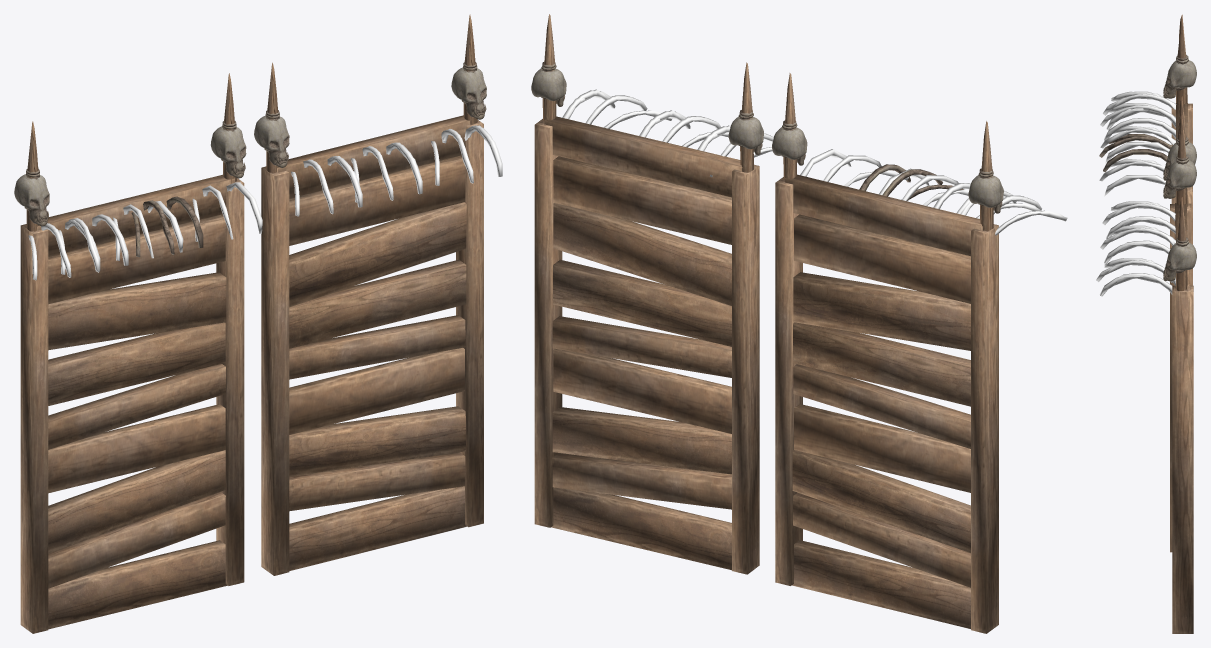
Rendered from porton.fbx.
3 views of the same model, side by side, from view 1: azimuth 30°, elevation 25°; view 2: azimuth 150°, elevation 25°; view 3: azimuth 270°, elevation 25° (orthographic). The views are drawn at different scales.
Visible parts, largest first — view 1: Housing_Wall_1A3.001, Housing_Wall_1A3, Skull_On_Post_1A6, Skull_On_Post_1A6.002, Skull_On_Post_1A6.003, Skull_On_Post_1A6.001, Meat_Bones_1A1.002, Meat_Bones_1A1.001, Meat_Bones_1A1.005, Meat_Bones_1A1_001.002, Meat_Bones_1A1_001.001, Meat_Bones_1A1 (+2 smaller); view 2: Housing_Wall_1A3.001, Housing_Wall_1A3, Skull_On_Post_1A6, Skull_On_Post_1A6.002, Skull_On_Post_1A6.003, Skull_On_Post_1A6.001, Meat_Bones_1A1_001.002, Meat_Bones_1A1.002, Meat_Bones_1A1.005, Meat_Bones_1A1, Meat_Bones_1A1.004, Meat_Bones_1A1_001.001; view 3: Housing_Wall_1A3.001, Skull_On_Post_1A6.003, Skull_On_Post_1A6.002, Skull_On_Post_1A6, Meat_Bones_1A1.001, Meat_Bones_1A1, Meat_Bones_1A1_001.001, Meat_Bones_1A1.002, Meat_Bones_1A1_001.002, Meat_Bones_1A1.005, Meat_Bones_1A1.003, Housing_Wall_1A3 (+5 smaller).
Boxes of the visible parts, x1,y1,x2,y2 form: Housing_Wall_1A3.001: (261,115,483,575); Housing_Wall_1A3: (20,174,244,633); Skull_On_Post_1A6: (14,121,49,231); Skull_On_Post_1A6.002: (254,62,289,172); Skull_On_Post_1A6.003: (451,14,486,124); Skull_On_Post_1A6.001: (210,73,246,183); Meat_Bones_1A1.002: (131,196,203,257); Meat_Bones_1A1.001: (58,214,128,274); Meat_Bones_1A1.005: (431,125,502,185); Meat_Bones_1A1_001.002: (192,182,262,241); Meat_Bones_1A1_001.001: (113,201,183,260); Meat_Bones_1A1: (28,220,100,280); Housing_Wall_1A3.001: (534,116,759,574); Housing_Wall_1A3: (775,174,998,633); Skull_On_Post_1A6: (968,121,1003,231); Skull_On_Post_1A6.002: (728,62,763,172); Skull_On_Post_1A6.003: (531,14,566,120); Skull_On_Post_1A6.001: (772,73,807,179); Meat_Bones_1A1_001.002: (800,149,908,186); Meat_Bones_1A1.002: (859,164,963,200); Meat_Bones_1A1.005: (562,90,671,128); Meat_Bones_1A1: (960,195,1067,235); Meat_Bones_1A1.004: (639,111,728,147); Meat_Bones_1A1_001.001: (879,168,968,205); Housing_Wall_1A3.001: (1170,203,1193,633); Skull_On_Post_1A6.003: (1163,197,1196,290); Skull_On_Post_1A6.002: (1163,115,1196,206); Skull_On_Post_1A6: (1163,14,1196,104); Meat_Bones_1A1.001: (1100,103,1175,140); Meat_Bones_1A1: (1103,91,1188,129); Meat_Bones_1A1_001.001: (1100,126,1175,163); Meat_Bones_1A1.002: (1099,134,1171,172); Meat_Bones_1A1_001.002: (1099,158,1165,196); Meat_Bones_1A1.005: (1096,258,1175,296); Meat_Bones_1A1.003: (1102,201,1175,238); Housing_Wall_1A3: (1171,103,1192,285).
Size of what is drawn, in the model's own units: 674 by 669 by 140.
5 materials, 4 textured.
